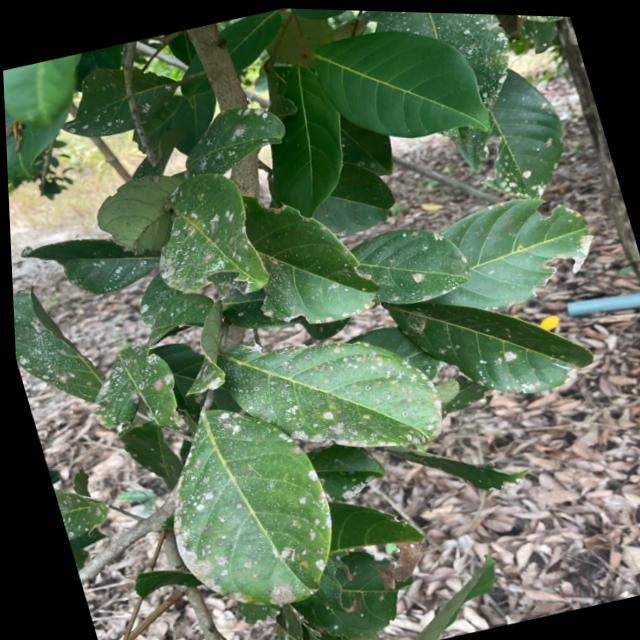Algal Leaf Spot: (111, 373, 369, 635), (211, 297, 460, 482), (9, 269, 192, 475), (141, 159, 272, 307), (397, 9, 587, 110)
